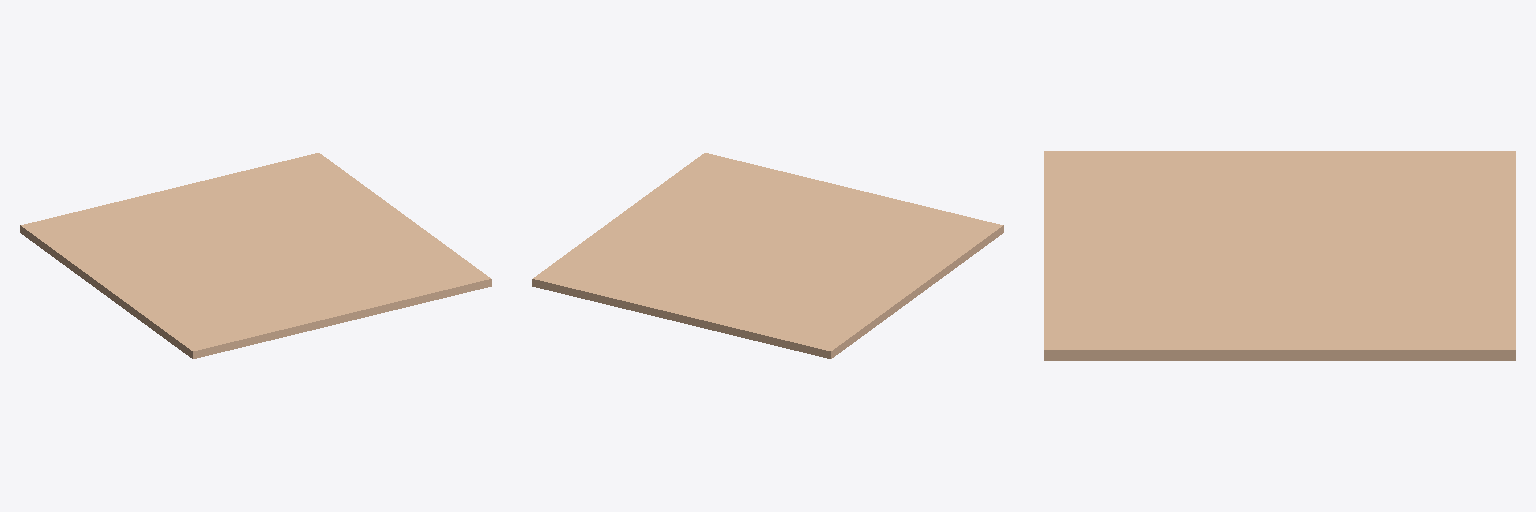
The robot description file, URDF, robot "flat_terrain":
<?xml version="1.0"?>
<robot name="flat_terrain">
  <link name="base_link">
    <visual>
      <origin xyz="0 0 -0.05" rpy="0 0 0" />
      <geometry>
        <box size="4 4 0.1" />
      </geometry>
      <material name="desert sand">
        <color rgba="0.9297 0.7930 0.6758 1" />
      </material>
    </visual>
    <collision>
      <origin xyz="0 0 -0.05" rpy="0 0 0" />
      <geometry>
        <box size="4 4 0.1" />
      </geometry>
    </collision>
  </link>
</robot>

--- What the picture shows (computed from the rendered views, not written in the file) ---
The picture shows the robot from 3 angles, left to right: view 1: azimuth 30°, elevation 25°; view 2: azimuth 150°, elevation 25°; view 3: azimuth 270°, elevation 25°; orthographic projection.
Model flat_terrain with 1 links and 0 joints (none), rooted at base_link, posed all joints at 0.
Links seen in each view (by area): view 1: base_link; view 2: base_link; view 3: base_link.
Boxes of the visible links, x1,y1,x2,y2 form: base_link: (20, 153, 491, 358); base_link: (532, 153, 1003, 358); base_link: (1044, 151, 1515, 360).
Size in the robot's own frame: 4 by 4 by 0.1 metres.
Geometry: primitives only (box / cylinder / sphere), no mesh files.